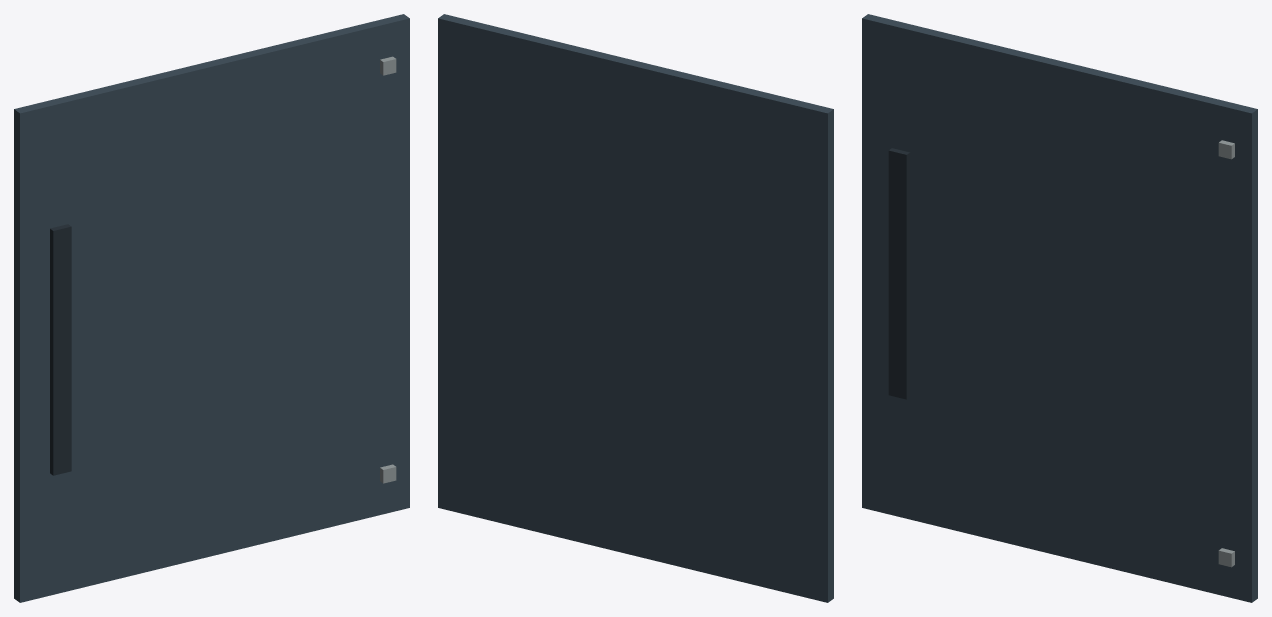
File: tapa_lateral.obj
The picture shows the model from 3 angles, left to right: view 1: azimuth 30°, elevation 25°; view 2: azimuth 150°, elevation 25°; view 3: azimuth 330°, elevation 25°; orthographic projection.
Parts seen in each view (by area): view 1: tapa_lateral.001, tapa_lateral.002; view 2: tapa_lateral.001; view 3: tapa_lateral.001, tapa_lateral.002.
Part boxes in pixels (<box>): tapa_lateral.001: <box>14,14,409,602</box>; tapa_lateral.002: <box>50,224,71,475</box>; tapa_lateral.001: <box>438,14,833,602</box>; tapa_lateral.001: <box>862,14,1257,602</box>; tapa_lateral.002: <box>888,148,910,399</box>.
Bounding box in the file's own units: 0.3 × 0.36 × 0.0125.
